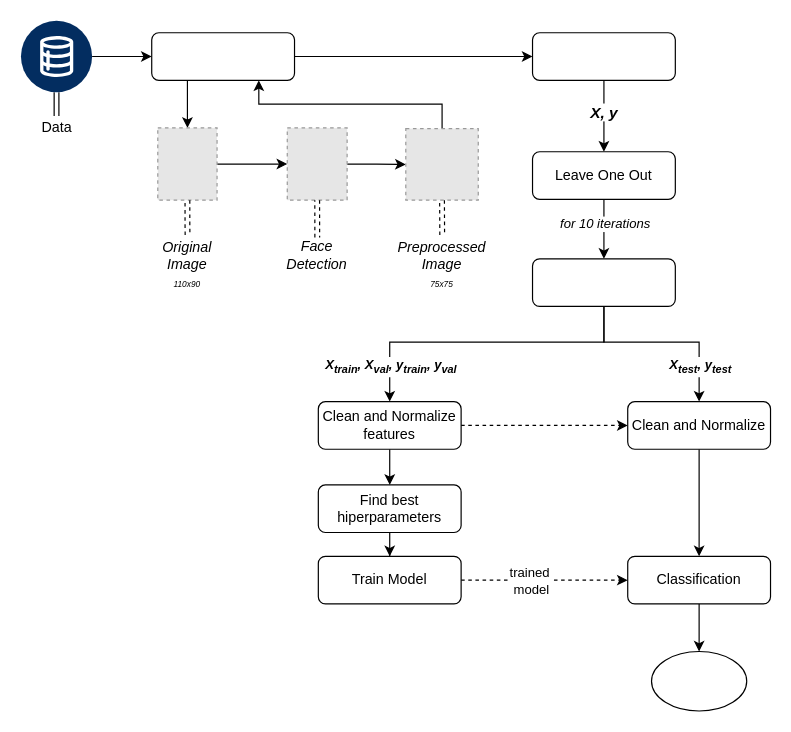
This 791x732 diagram has some shape labels left out. Grey dashed boxes stand in for pictures. Each missing label, with the centre of its shape:
Accuracy: point 698,680
Feature Extraction (Hog): point 603,56
Preprocessing: point 223,56
Split: point 603,282
